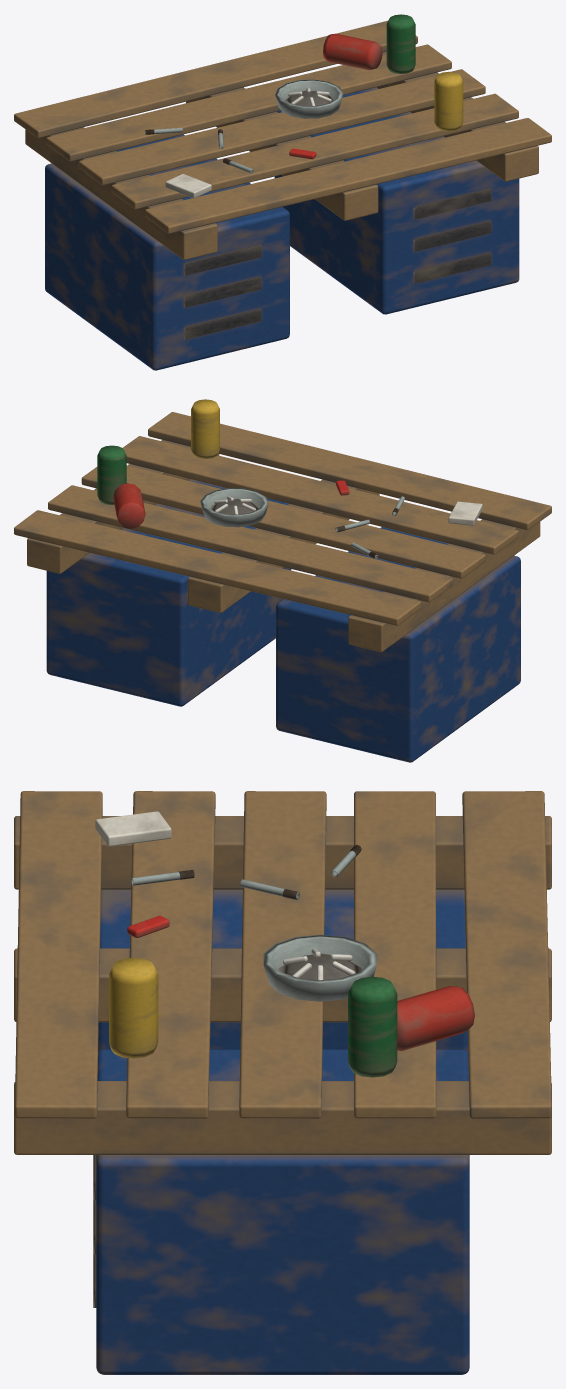
The model's file is pod_stolik.glb.
3 renders of one model, top to bottom at view 1: azimuth 30°, elevation 25°; view 2: azimuth 150°, elevation 25°; view 3: azimuth 270°, elevation 25°, orthographic. The views are drawn at different scales.
Visible parts, largest first — view 1: Stolik, Drobiazgi; view 2: Stolik, Drobiazgi; view 3: Stolik, Drobiazgi.
Part boxes in pixels (x1,y1,x2,y2): Stolik: (14, 20, 551, 370); Drobiazgi: (145, 14, 463, 198); Stolik: (14, 412, 551, 762); Drobiazgi: (97, 399, 482, 559); Stolik: (14, 791, 551, 1374); Drobiazgi: (95, 811, 474, 1077).
Bounding box in the file's own units: 1 × 0.532 × 0.72.
2 materials, 2 textured.
